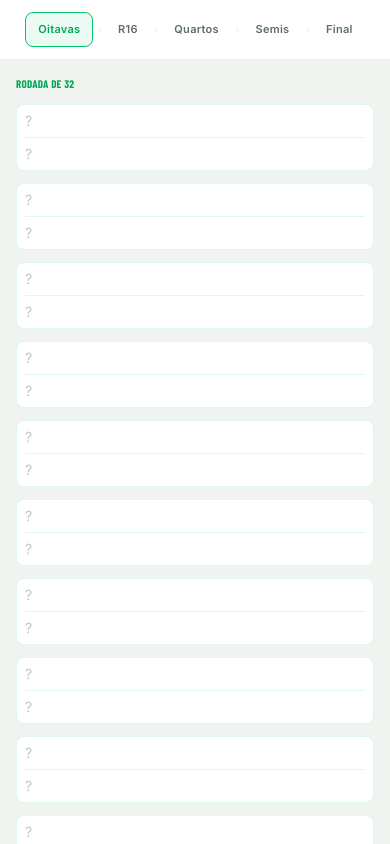
it: BracketView › shows minimap on mobile view by switching round
Step 1. Click the button with test id "minimap-quarterFinals" → [197, 29], box [162,13,231,46]
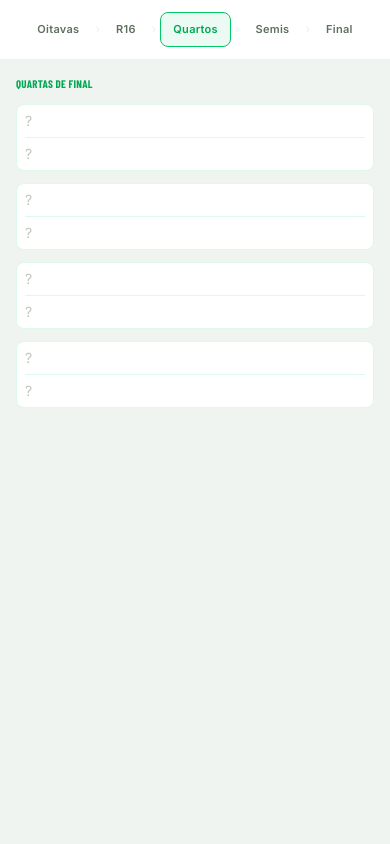
expect the element with test id "round-quarterFinals" is shown: met, box [0,60,389,424]
